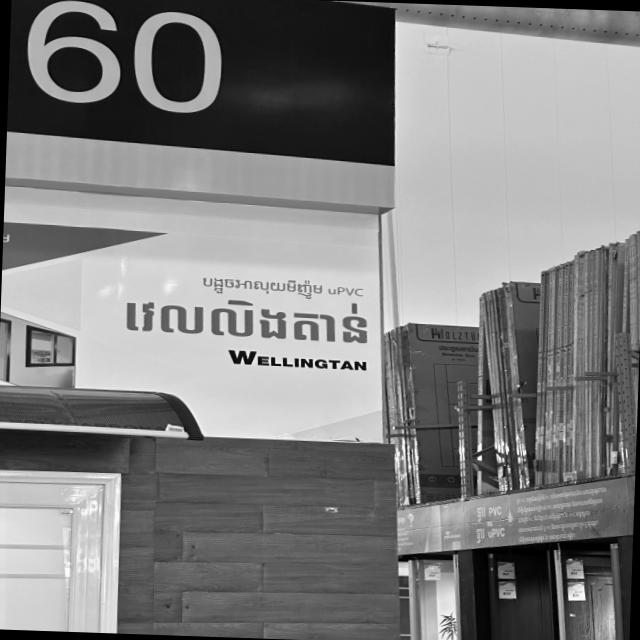Yolov11_80vkh: (110, 289, 370, 348), (194, 270, 370, 302)
